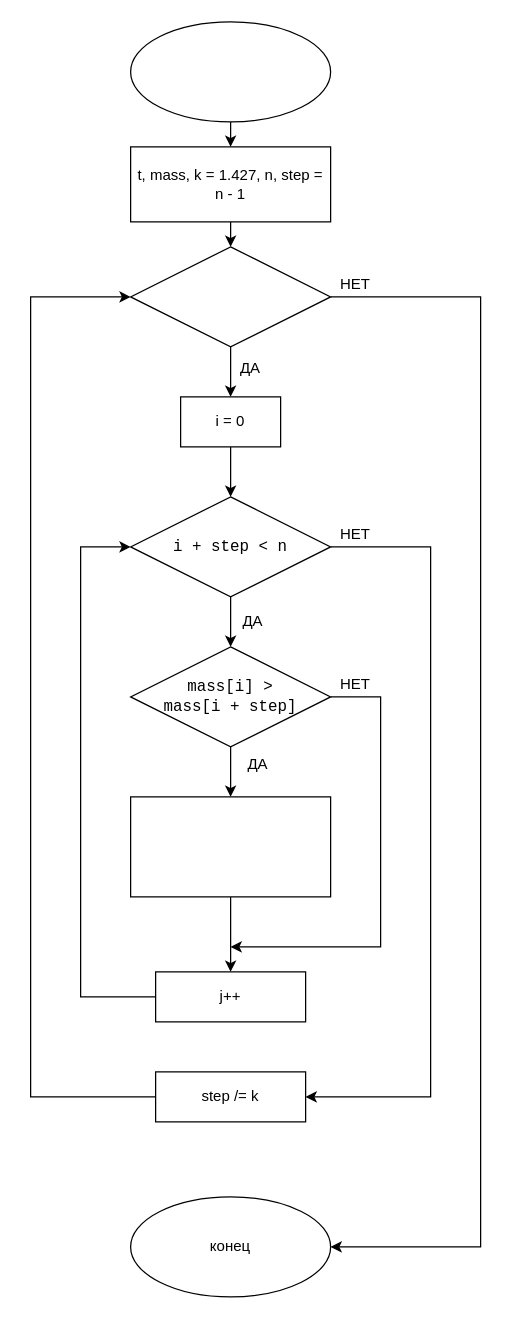
This 513x1319 diagram has some shape labels left out. Here are the shapes that lost their labels. From the top down, the centre of each, then its label:
the point at 230,71: начало
the point at 230,296: step >= 1
the point at 230,846: t = mass[i]; mass[i] = mass[i + step]; mass[i + step] = t;
